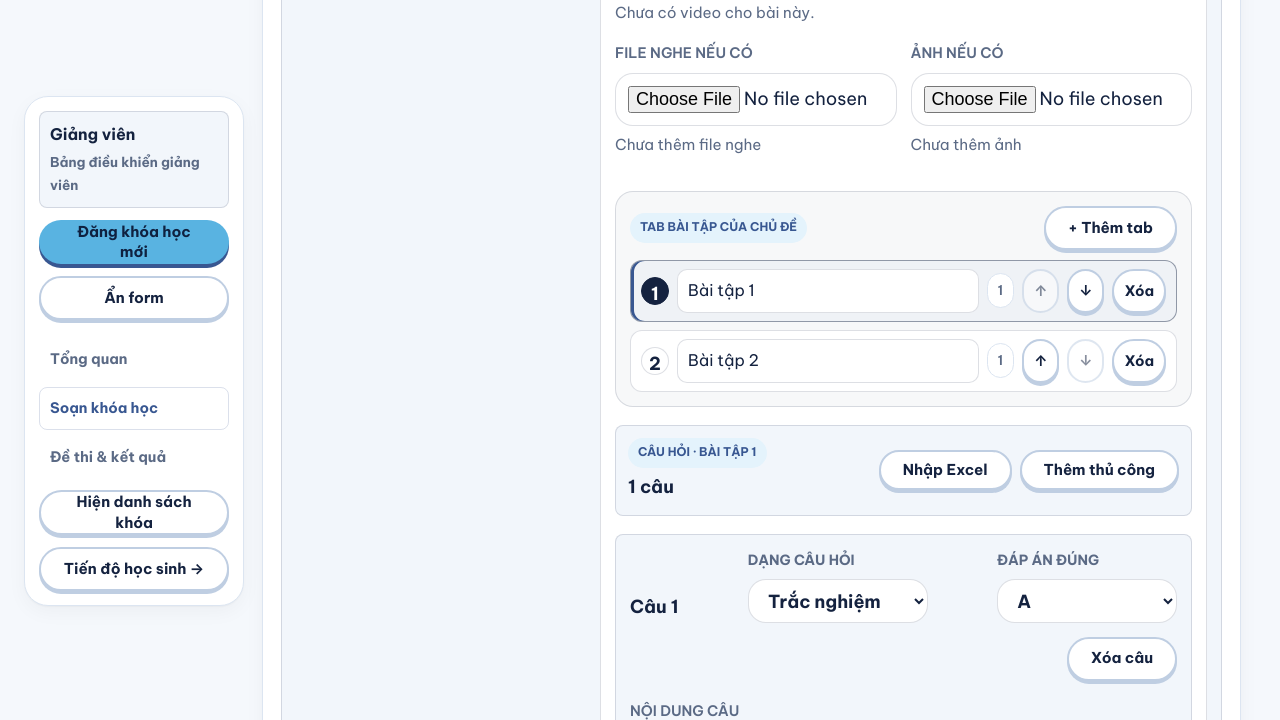
TeacherDashboardPage — tab bài tập của một bài học › bấm vào tên tab cũng mở tab đó
(page scrolled)
Expected: the 1st field showing "Bài tập 1" is shown, [677,269,978,312]
Click the 2nd field with class "draft-tab-chip__title": [828, 361] box [677,339,978,382]
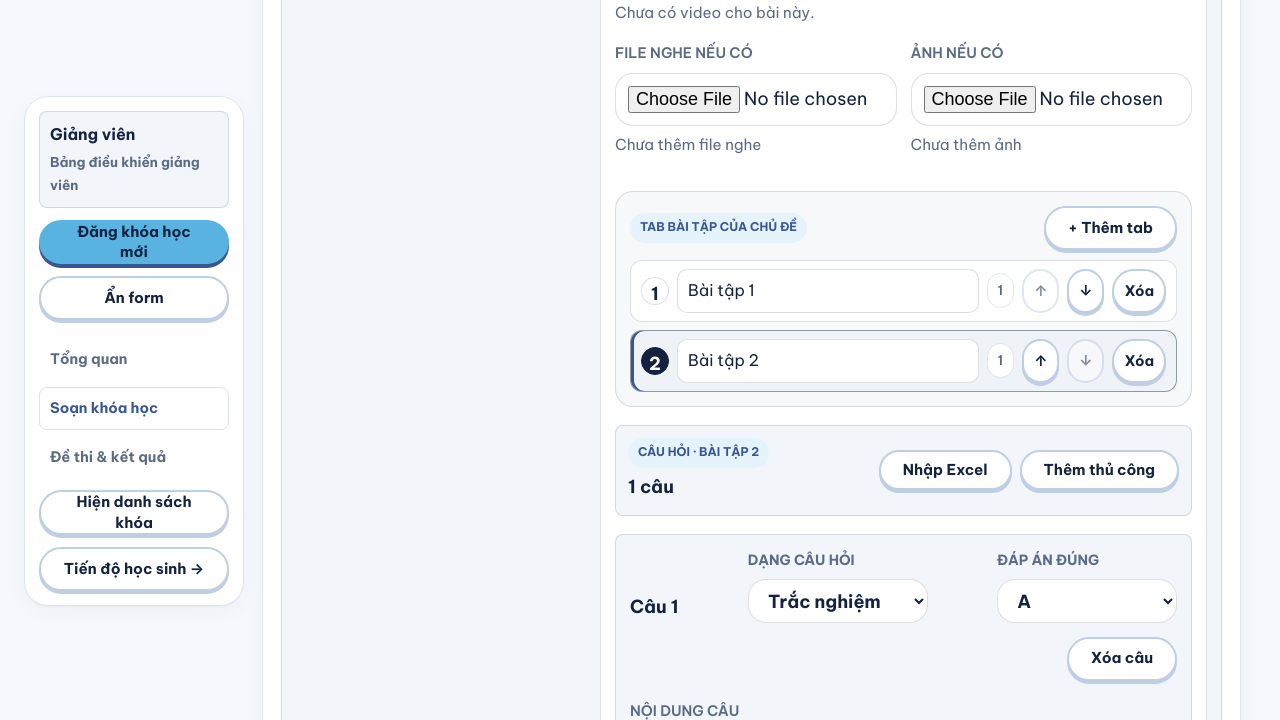
Now the text with class "eyebrow" reads "Câu hỏi · Bài tập 2", box [638,445,759,460]
